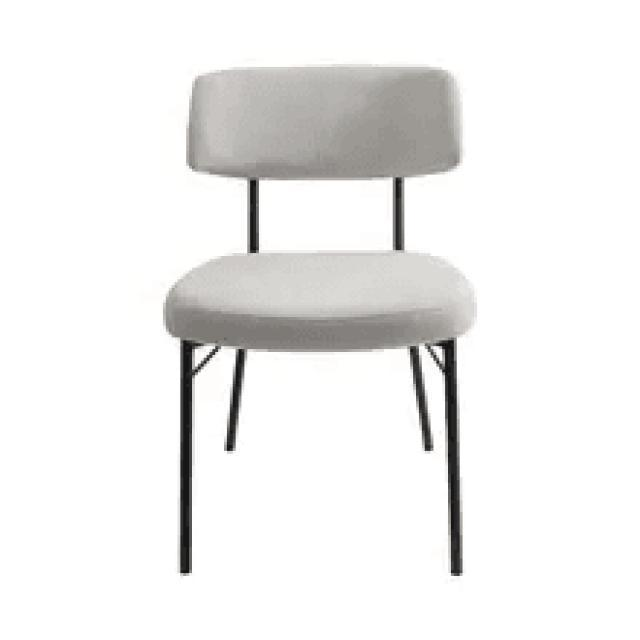chair: (162, 64, 477, 576)
